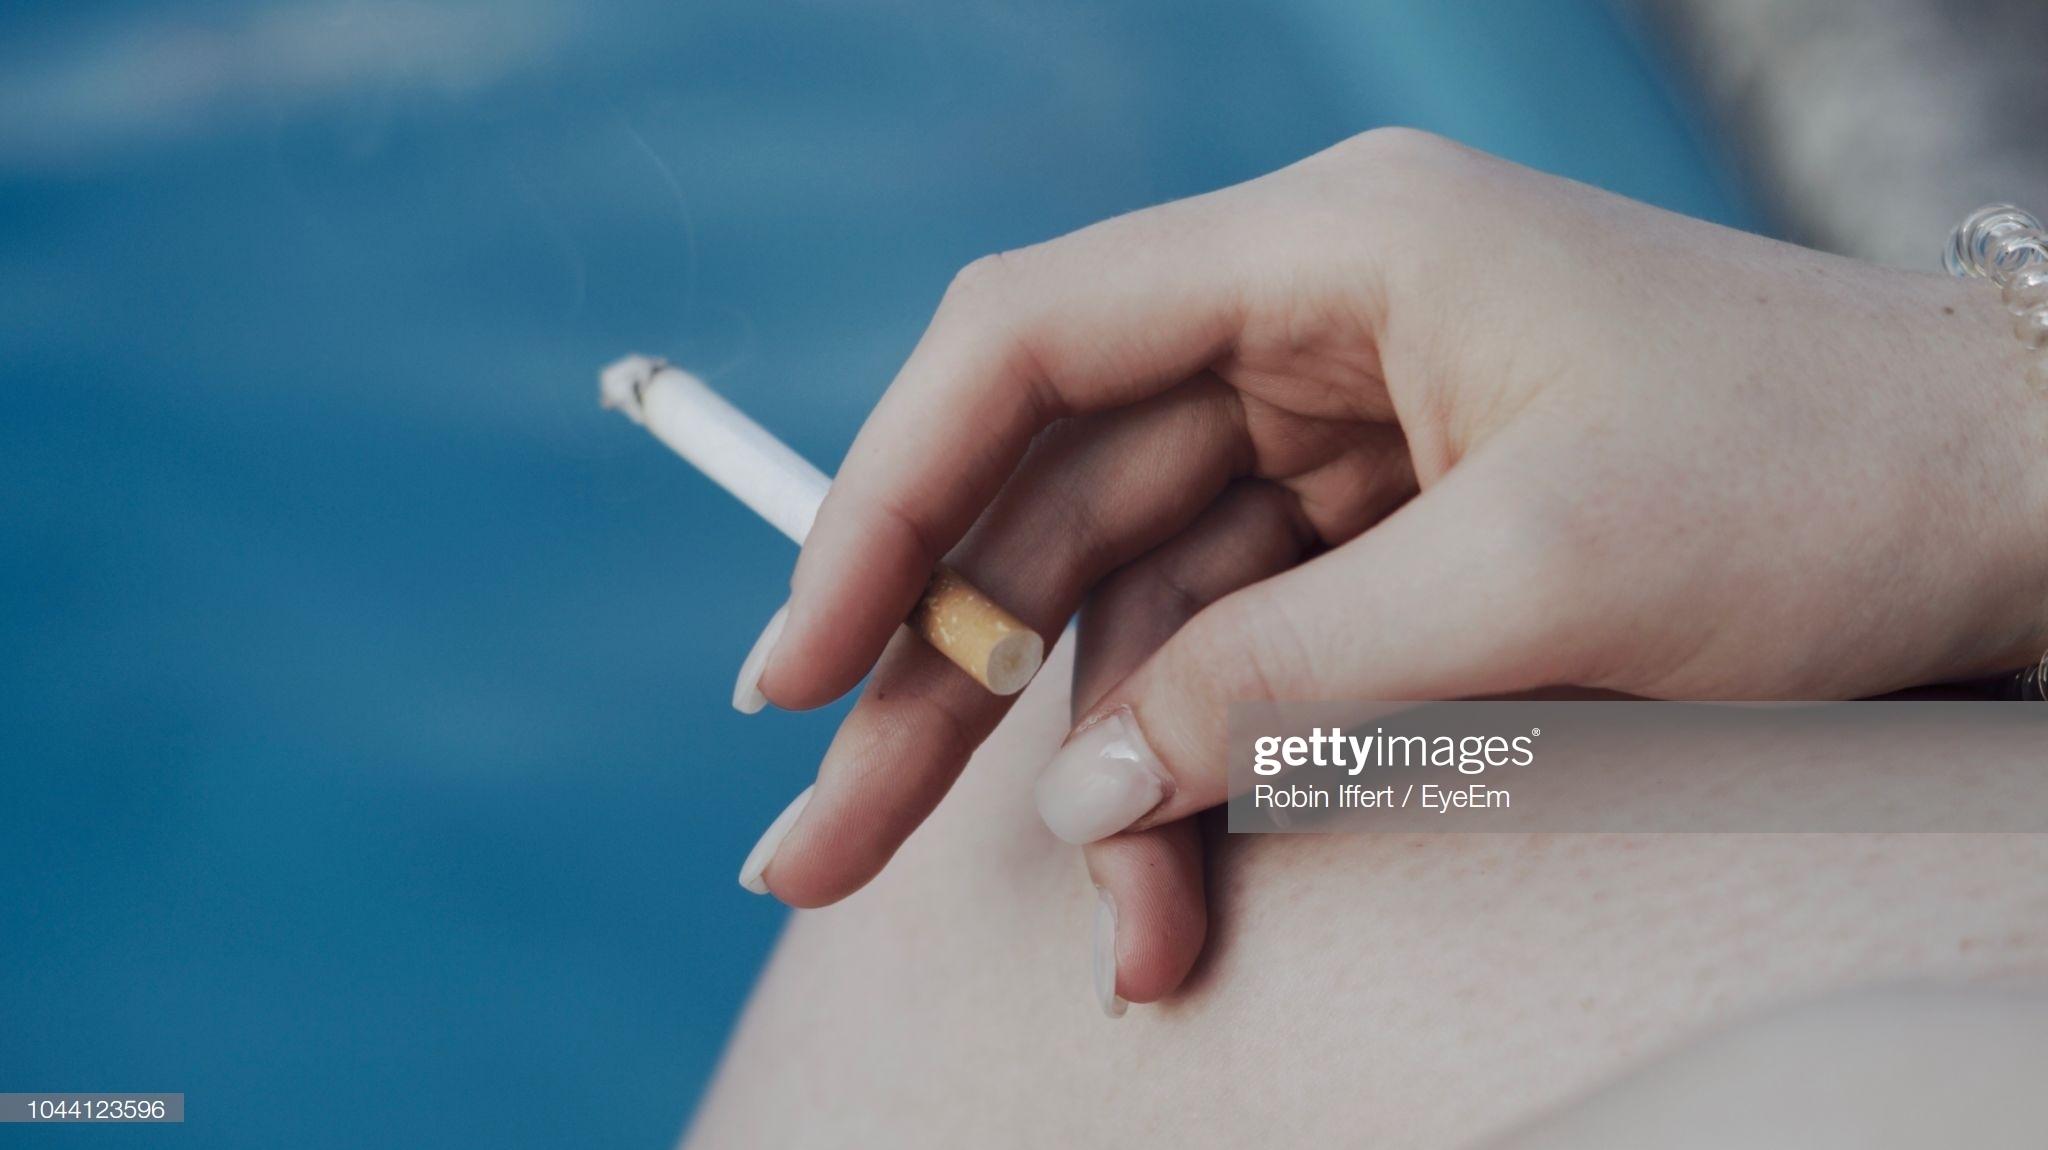sigaretta: (609, 335, 1080, 692)
